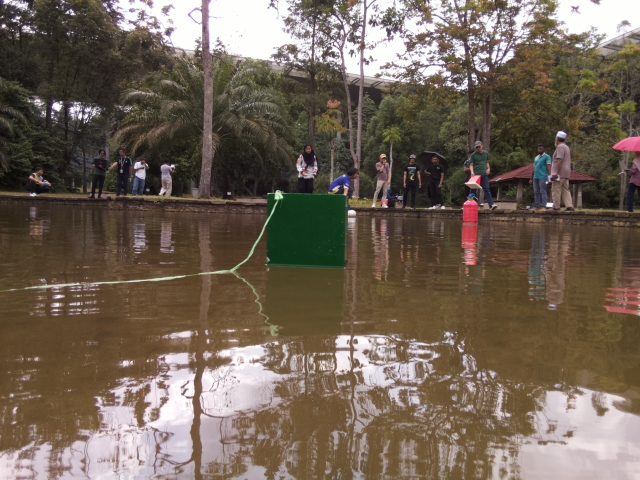obstacle: (265, 192, 348, 269)
